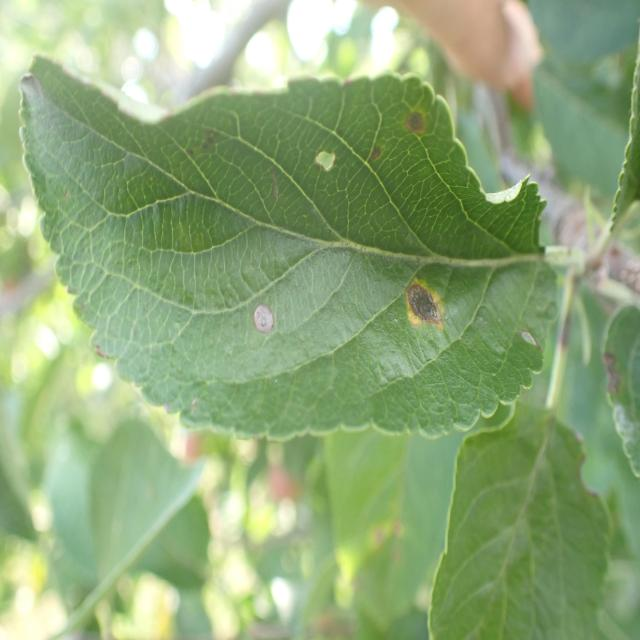rust: (15, 51, 563, 442)
